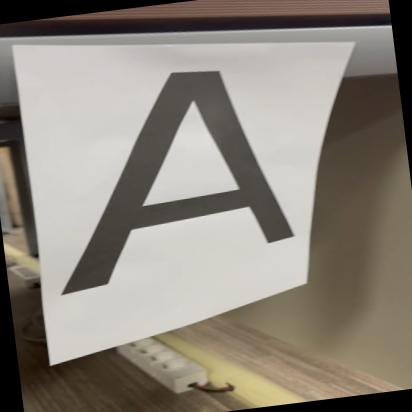seat: (36, 47, 295, 295)
